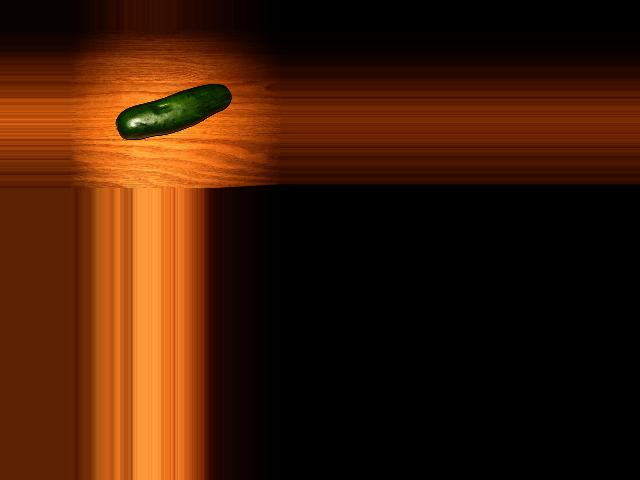cucumber: (117, 84, 232, 140)
